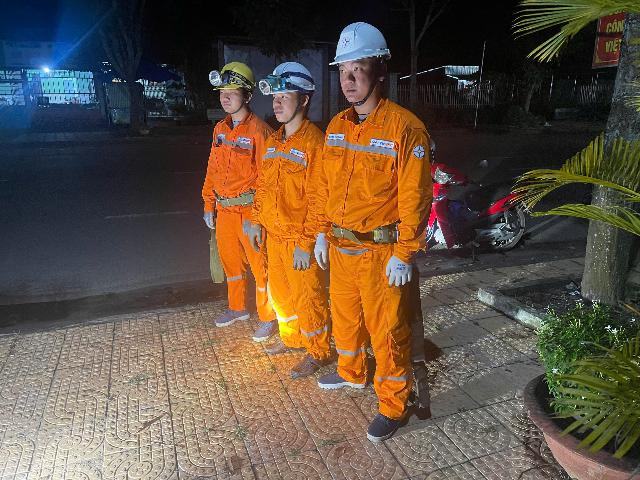gloves: (376, 249, 427, 286), (314, 224, 336, 271), (289, 239, 312, 277), (245, 224, 274, 252), (234, 214, 253, 234), (198, 211, 217, 230)
harness: (319, 208, 410, 249), (210, 187, 262, 209)
helmet: (328, 16, 413, 70), (198, 51, 259, 96), (258, 61, 324, 100)
shoes: (355, 392, 423, 444), (287, 347, 346, 380), (317, 362, 379, 393), (207, 295, 252, 329), (250, 335, 317, 357), (247, 314, 287, 346)
